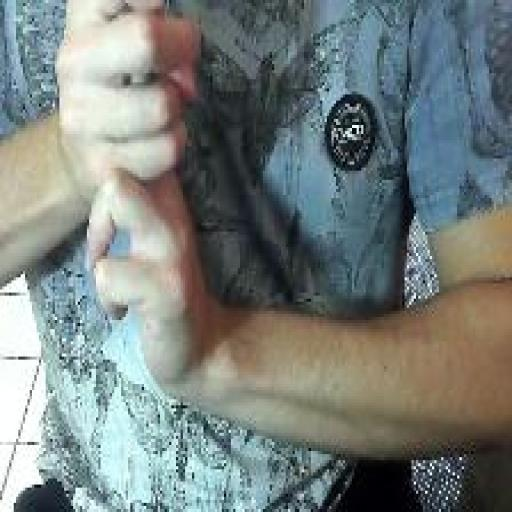Ne -rat-: (50, 0, 212, 408)
